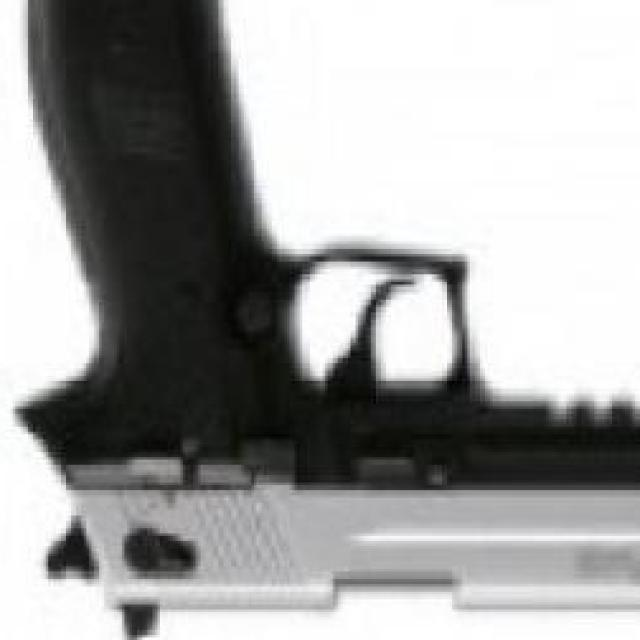pistol: (10, 0, 640, 638)
